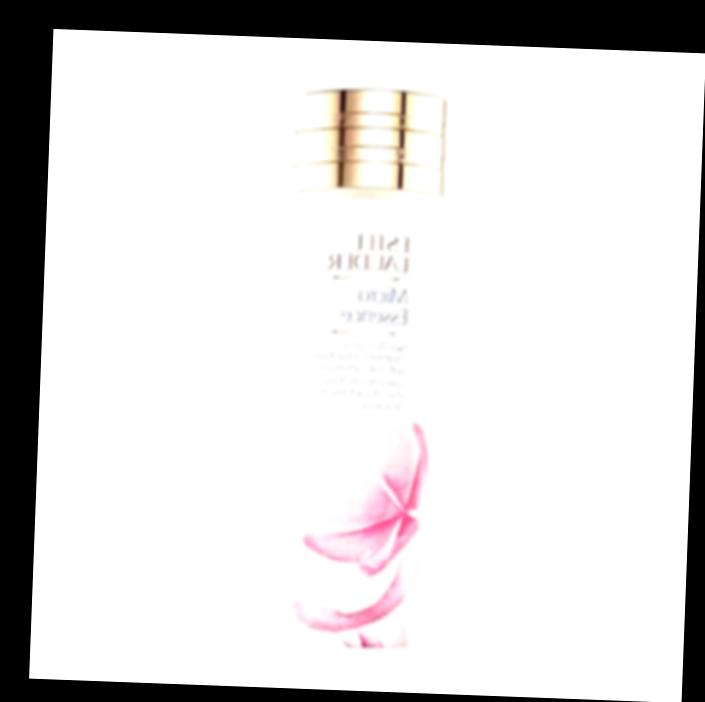cosmetic: (277, 91, 440, 650)
